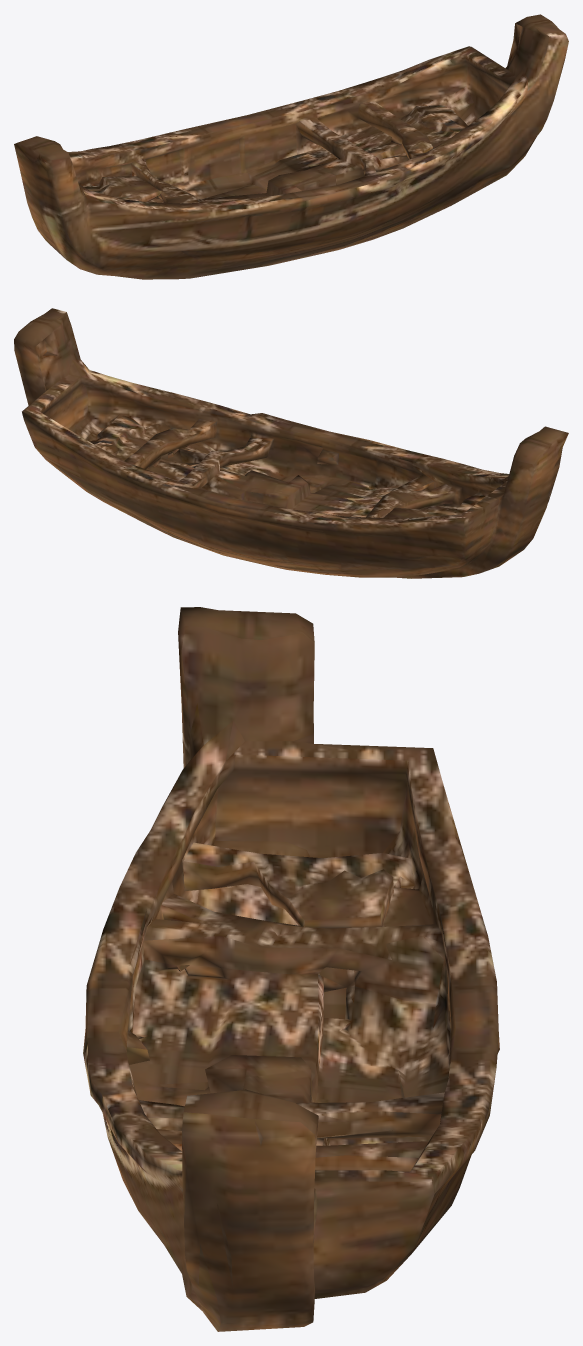
The model's file is toad-prop3d-boat.glb.
The picture shows the model from 3 angles, top to bottom: view 1: azimuth 30°, elevation 25°; view 2: azimuth 150°, elevation 25°; view 3: azimuth 270°, elevation 25°; orthographic projection. The views are drawn at different scales.
Parts seen in each view (by area): view 1: world; view 2: world; view 3: world.
Boxes of the visible parts, x1,y1,x2,y2 form: world: [14, 14, 568, 279]; world: [14, 308, 568, 578]; world: [83, 607, 499, 1331].
Size of the model in its own units: 0.16 by 0.05 by 0.055.
Materials: 1 (1 with a texture image).
